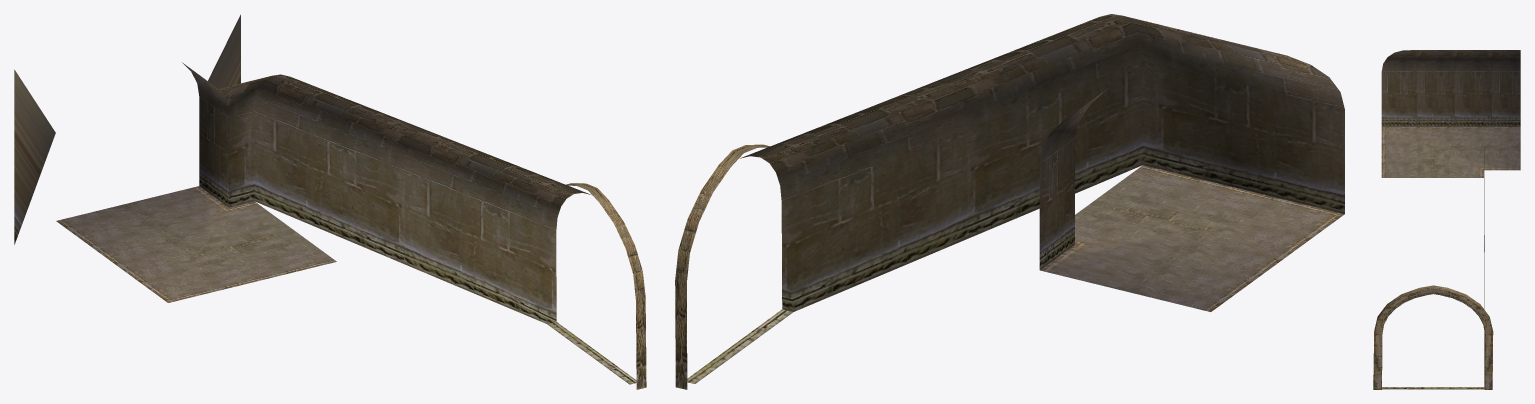
File: M7Z4_Tunnel3.glb
3 views of the same model, side by side, from view 1: azimuth 30°, elevation 25°; view 2: azimuth 150°, elevation 25°; view 3: azimuth 270°, elevation 25° (orthographic). The views are drawn at different scales.
Visible parts, largest first — view 1: M7Z4_TUNNEL3; view 2: M7Z4_TUNNEL3; view 3: M7Z4_TUNNEL3.
Boxes of the visible parts, x1,y1,x2,y2 form: M7Z4_TUNNEL3: (14,14,646,389); M7Z4_TUNNEL3: (675,14,1344,389); M7Z4_TUNNEL3: (1373,50,1520,389).
Bounding box in the file's own units: 10.61 × 7.04 × 4.26.
4 materials, 4 textured.
